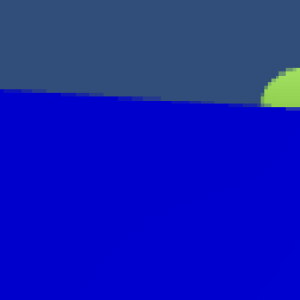goodGoal: (258, 63, 300, 107)
platform: (1, 109, 297, 300)
